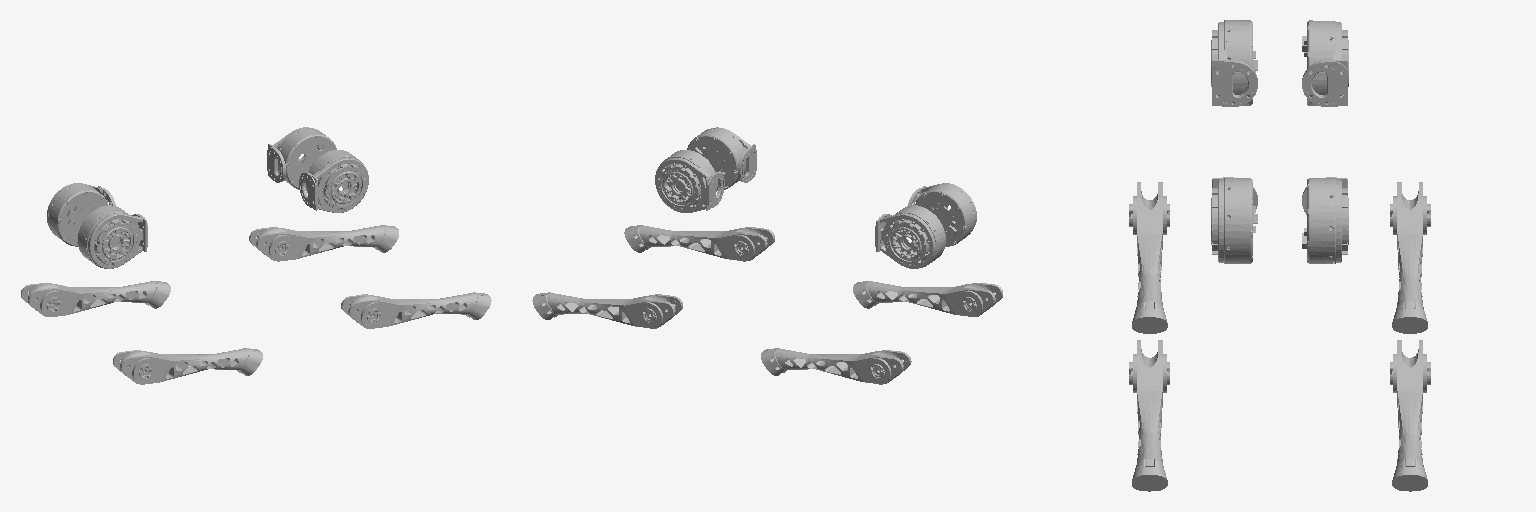
The robot description file, URDF, robot "TOE_dog":
<?xml version="1.0" encoding="utf-8"?>
<!-- This URDF was automatically created by SolidWorks to URDF Exporter! Originally created by [author] ([email redacted]) 
     Commit Version: 1.6.0-4-g7f85cfe  Build Version: 1.6.7995.38578
     For more information, please see http://wiki.ros.org/sw_urdf_exporter -->
<robot
  name="TOE_dog">
  <mujoco>
  <compiler 
    meshdir="[local-path]/my_dog/commpany/meshes/" 
    balanceinertia="true" 
    discardvisual="false" />
  </mujoco>
  <link
    name="base">
    <inertial>
      <origin
        xyz="0 0 0"
        rpy="0 0 0" />
      <mass
        value="5.1234705" />
      <inertia
        ixx="0.01752351"
        ixy="0.00013383"
        ixz="0.00001858"
        iyy="0.05791253"
        iyz="-0.00032371"
        izz="0.06565058" />
    </inertial>
    <visual>
      <origin
        xyz="0 0 0"
        rpy="0 0 0" />
      <geometry>
        <mesh
          filename="package://urdf_tutorial/meshes/TOE_base.STL" />
      </geometry>
      <material
        name="">
        <color
          rgba="0.752941176470588 0.752941176470588 0.752941176470588 1" />
      </material>
    </visual>
    <collision>
      <origin
        xyz="0 0 0"
        rpy="0 0 0" />
      <geometry>
        <box size="0.27 0.15 0.114" />
      </geometry>
    </collision>
  </link>
  <link
    name="FL_hip">
    <inertial>
      <origin
        xyz="0 0 0"
        rpy="0 0 0" />
      <mass
        value="0.66990104" />
      <inertia
        ixx="0.00054593"
        ixy="0.00000827"
        ixz="0.00000421"
        iyy="0.00085132"
        iyz="0.00000458"
        izz="0.00060958" />
    </inertial>
    <visual>
      <origin
        xyz="0 0 0"
        rpy="0 0 0" />
      <geometry>
        <mesh
          filename="package://urdf_tutorial/meshes/TOE_FL_hip.STL" />
      </geometry>
      <material
        name="">
        <color
          rgba="0.752941176470588 0.752941176470588 0.752941176470588 1" />
      </material>
    </visual>
    <collision>
      <origin
        xyz="0 0.05 0"
        rpy="1.5708 0 0" />
      <geometry>
        <cylinder length="0.08" radius="0.046" />
      </geometry>
    </collision>
  </link>
  <joint
    name="FL_hip_joint"
    type="revolute">
    <origin
      xyz="0.2 0.05 0"
      rpy="0 0 0" />
    <parent
      link="base" />
    <child
      link="FL_hip" />
    <axis
      xyz="1 0 0" />
    <limit
      lower="-1"
      upper="1"
      effort="23"
      velocity="30" />
  </joint>
  <link
    name="FL_thigh">
    <inertial>
      <origin
        xyz="0 -0.0225192600801335 -0.0253114510050126"
        rpy="0 0 0" />
      <mass
        value="1.05418577" />
      <inertia
        ixx="0.00434958"
        ixy="-0.00001840"
        ixz="-0.00002750"
        iyy="0.00404663"
        iyz="0.00080770"
        izz="0.00139077" />
    </inertial>
    <visual>
      <origin
        xyz="0 0 0"
        rpy="0 0 0" />
      <geometry>
        <mesh
          filename="package://urdf_tutorial/meshes/TOE_thigh.STL" />
      </geometry>
      <material
        name="">
        <color
          rgba="0.752941176470588 0.752941176470588 0.752941176470588 1" />
      </material>
    </visual>
    <collision>
      <origin rpy="0 1.5707963267948966 0" xyz="0 0 -0.11" />
      <geometry>
        <box size="0.11 0.0245 0.04" />
      </geometry>
    </collision>
  </link>
  <joint
    name="FL_thigh_joint"
    type="revolute">
    <origin
      xyz="0 0.08953 0"
      rpy="0 0 0" />
    <parent
      link="FL_hip" />
    <child
      link="FL_thigh" />
    <axis
      xyz="0 1 0" />
    <limit
      lower="-1.5"
      upper="2.5"
      effort="23"
      velocity="30" />
  </joint>
  <link
    name="FL_calf">
    <inertial>
      <origin
        xyz="0 0 -0.0632711754855739"
        rpy="0 0 0" />
      <mass
        value="0.18000000" />
      <inertia
        ixx="0.00091534"
        ixy="0.00000317"
        ixz="-0.00008945"
        iyy="0.00092537"
        iyz="0.00003646"
        izz="0.00004689" />
    </inertial>
    <visual>
      <origin
        xyz="0 0 0"
        rpy="0 0 0" />
      <geometry>
        <mesh
          filename="package://urdf_tutorial/meshes/TOE_calf.STL" />
      </geometry>
      <material
        name="">
        <color
          rgba="0.752941176470588 0.752941176470588 0.752941176470588 1" />
      </material>
    </visual>
    <collision>
      <origin rpy="0 1.5708 0" xyz="0 0 -0.09" />
      <geometry>
        <box size="0.16 0.0245 0.04" />
      </geometry>
    </collision>
  </link>
  <joint
    name="FL_calf_joint"
    type="revolute">
    <origin
      xyz="0 0 -0.18"
      rpy="0 0 0" />
    <parent
      link="FL_thigh" />
    <child
      link="FL_calf" />
    <axis
      xyz="0 1 0" />
    <limit
      lower="-2.6"
      upper="-0.15"
      effort="35"
      velocity="20" />
  </joint>
  <link
    name="FL_foot">
    <inertial>
      <origin
        xyz="0 0 -0.00961668940835148"
        rpy="0 0 0" />
      <mass
        value="0.04" />
      <inertia
        ixx="9.6e-06"
        ixy="0"
        ixz="0"
        iyy="9.6e-06"
        iyz="0"
        izz="9.6e-06" />
    </inertial>
    <visual>
      <origin
        xyz="0 0 0"
        rpy="0 0 0" />
      <geometry>
        <mesh
          filename="package://urdf_tutorial/meshes/TOE_foot.STL" />
      </geometry>
      <material
        name="">
        <color
          rgba="1 1 1 1" />
      </material>
    </visual>
    <collision>
      <origin rpy="0 0 0" xyz="-0.002 0 0" />
      <geometry>
        <sphere radius="0.022" />
      </geometry>
    </collision>
  </link>
  <joint
    name="FL_foot_joint"
    type="fixed" dont_collapse="true">
    <origin
      xyz="0 0 -0.20051"
      rpy="0 -0.0012583 0" />
    <parent
      link="FL_calf" />
    <child
      link="FL_foot" />
    <axis
      xyz="0 0 0" />
  </joint>
  <link
    name="FR_hip">
    <inertial>
      <origin
        xyz="0 0 0"
        rpy="0 0 0" />
      <mass
        value="0.66990104" />
      <inertia
        ixx="0.00054593"
        ixy="-0.00000827"
        ixz="-0.00000421"
        iyy="0.00085132"
        iyz="0.00000458"
        izz="0.00060958" />
    </inertial>
    <visual>
      <origin
        xyz="0 0 0"
        rpy="0 0 0" />
      <geometry>
        <mesh
          filename="package://urdf_tutorial/meshes/TOE_FR_hip.STL" />
      </geometry>
      <material
        name="">
        <color
          rgba="0.752941176470588 0.752941176470588 0.752941176470588 1" />
      </material>
    </visual>
    <collision>
      <origin rpy="1.5707963267948966 0 0" xyz="0 -0.05 0" />
      <geometry>
        <cylinder length="0.08" radius="0.046" />
      </geometry>
    </collision>
  </link>
  <joint
    name="FR_hip_joint"
    type="revolute">
    <origin
      xyz="0.2 -0.05 0"
      rpy="0 0 0" />
    <parent
      link="base" />
    <child
      link="FR_hip" />
    <axis
      xyz="1 0 0" />
    <limit
      lower="-1"
      upper="1"
      effort="23"
      velocity="30" />
  </joint>
  <link
    name="FR_thigh">
    <inertial>
      <origin
        xyz="0 0.022389 -0.026316"
        rpy="0 0 0" />
      <mass
        value="1.05822138" />
      <inertia
        ixx="0.00434958"
        ixy="-0.00001840"
        ixz="-0.00002750"
        iyy="0.00404663"
        iyz="-0.00080770"
        izz="0.00139077" />
    </inertial>
    <visual>
      <origin
        xyz="0 0 0"
        rpy="0 0 0" />
      <geometry>
        <mesh
          filename="package://urdf_tutorial/meshes/TOE_R_thigh.STL" />
      </geometry>
      <material
        name="">
        <color
          rgba="0.75294 0.75294 0.75294 1" />
      </material>
    </visual>
    <collision>
      <origin rpy="0 1.5707963267948966 0" xyz="0 0 -0.11" />
      <geometry>
        <box size="0.11 0.0245 0.04" />
      </geometry>
    </collision>
  </link>
  <joint
    name="FR_thigh_joint"
    type="revolute">
    <origin
      xyz="0 -0.08953 0"
      rpy="0 0 0" />
    <parent
      link="FR_hip" />
    <child
      link="FR_thigh" />
    <axis
      xyz="0 1 0" />
    <limit
      lower="-1.5"
      upper="2.5"
      effort="23"
      velocity="30" />
  </joint>
  <link
    name="FR_calf">
    <inertial>
      <origin
        xyz="0 0 -0.0632711777197613"
        rpy="0 0 0" />
      <mass
        value="0.18000000" />
      <inertia
        ixx="0.00153191"
        ixy="0.00000186"
        ixz="-0.00004501"
        iyy="0.00153344"
        iyz="0.00006192"
        izz="0.00004013" />
    </inertial>
    <visual>
      <origin
        xyz="0 0 0"
        rpy="0 0 0" />
      <geometry>
        <mesh
          filename="package://urdf_tutorial/meshes/TOE_calf.STL" />
      </geometry>
      <material
        name="">
        <color
          rgba="0.752941176470588 0.752941176470588 0.752941176470588 1" />
      </material>
    </visual>
    <collision>
      <origin rpy="0 1.5708 0" xyz="0 0 -0.09" />
      <geometry>
        <box size="0.16 0.0245 0.04" />
      </geometry>
    </collision>
  </link>
  <joint
    name="FR_calf_joint"
    type="revolute">
    <origin
      xyz="0 0 -0.18"
      rpy="0 0 0" />
    <parent
      link="FR_thigh" />
    <child
      link="FR_calf" />
    <axis
      xyz="0 1 0" />
    <limit
      lower="-2.6"
      upper="-0.15"
      effort="35"
      velocity="20" />
  </joint>
  <link
    name="FR_foot">
    <inertial>
      <origin
        xyz="0 0 -0.0096167"
        rpy="0 0 0" />
      <mass
        value="0.04" />
      <inertia
        ixx="9.6e-06"
        ixy="0"
        ixz="0"
        iyy="9.6e-06"
        iyz="0"
        izz="9.6e-06" />
    </inertial>
    <visual>
      <origin
        xyz="0 0 0"
        rpy="0 0 0" />
      <geometry>
        <mesh
          filename="package://urdf_tutorial/meshes/TOE_foot.STL" />
      </geometry>
      <material
        name="">
        <color
          rgba="1 1 1 1" />
      </material>
    </visual>
    <collision>
      <origin rpy="0 0 0" xyz="-0.002 0 0" />
      <geometry>
        <sphere radius="0.022" />
      </geometry>
    </collision>
  </link>
  <joint
    name="FR_foot_joint"
    type="fixed" dont_collapse="true">
    <origin
      xyz="0 0 -0.20051"
      rpy="0 -0.0012583 0" />
    <parent
      link="FR_calf" />
    <child
      link="FR_foot" />
    <axis
      xyz="0 0 0" />
  </joint>
    <link
    name="RL_hip">
    <inertial>
      <origin
        xyz="0 0 0"
        rpy="0 0 0" />
      <mass
        value="0.66990104" />
      <inertia
        ixx="0.00054593"
        ixy="-0.00000859"
        ixz="0.00000350"
        iyy="0.00085039"
        iyz="0.00001569"
        izz="0.00061051" />
    </inertial>
    <visual>
      <origin
        xyz="0 0 0"
        rpy="0 0 0" />
      <geometry>
        <mesh
          filename="package://urdf_tutorial/meshes/TOE_RL_hip.STL" />
      </geometry>
      <material
        name="">
        <color
          rgba="0.752941176470588 0.752941176470588 0.752941176470588 1" />
      </material>
    </visual>
    <collision>
      <origin rpy="1.5707963267948966 0 0" xyz="0 0.05 0" />
      <geometry>
        <cylinder length="0.08" radius="0.046" />
      </geometry>
    </collision>
  </link>
  <joint
    name="RL_hip_joint"
    type="revolute">
    <origin
      xyz="-0.2 0.05 0"
      rpy="0 0 0" />
    <parent
      link="base" />
    <child
      link="RL_hip" />
    <axis
      xyz="1 0 0" />
    <limit
      lower="-1"
      upper="1"
      effort="23"
      velocity="30" />
  </joint>
  <link
    name="RL_thigh">
    <inertial>
      <origin
        xyz="0 -0.0225192600682941 -0.0253114510097742"
        rpy="0 0 0" />
      <mass
        value="1.05418577" />
      <inertia
        ixx="0.00434731"
        ixy="0.00002748"
        ixz="-0.00013288"
        iyy="0.00405071"
        iyz="0.00080271"
        izz="0.00139629" />
    </inertial>
    <visual>
      <origin
        xyz="0 0 0"
        rpy="0 0 0" />
      <geometry>
        <mesh
          filename="package://urdf_tutorial/meshes/TOE_thigh.STL" />
      </geometry>
      <material
        name="">
        <color
          rgba="0.752941176470588 0.752941176470588 0.752941176470588 1" />
      </material>
    </visual>
    <collision>
      <origin rpy="0 1.5707963267948966 0" xyz="0 0 -0.11" />
      <geometry>
        <box size="0.11 0.0245 0.04" />
      </geometry>
    </collision>
  </link>
  <joint
    name="RL_thigh_joint"
    type="revolute">
    <origin
      xyz="0 0.08953 0"
      rpy="0 0 0" />
    <parent
      link="RL_hip" />
    <child
      link="RL_thigh" />
    <axis
      xyz="0 1 0" />
    <limit
      lower="-1.5"
      upper="2.5"
      effort="23"
      velocity="30" />
  </joint>
  <link
    name="RL_calf">
    <inertial>
      <origin
        xyz="0 -0 -0.0632711864020849"
        rpy="0 0 0" />
      <mass
        value="0.18000000" />
      <inertia
        ixx="0.00153252"
        ixy="-0.00000138"
        ixz="0.00003331"
        iyy="0.00153252"
        iyz="0.00006195"
        izz="0.00003952" />
    </inertial>
    <visual>
      <origin
        xyz="0 0 0"
        rpy="0 0 0" />
      <geometry>
        <mesh
          filename="package://urdf_tutorial/meshes/TOE_calf.STL" />
      </geometry>
      <material
        name="">
        <color
          rgba="0.752941176470588 0.752941176470588 0.752941176470588 1" />
      </material>
    </visual>
    <collision>
      <origin rpy="0 1.5708 0" xyz="0 0 -0.09" />
      <geometry>
        <box size="0.16 0.0245 0.04" />
      </geometry>
    </collision>
  </link>
  <joint
    name="RL_calf_joint"
    type="revolute">
    <origin
      xyz="0 0 -0.18"
      rpy="0 0 0" />
    <parent
      link="RL_thigh" />
    <child
      link="RL_calf" />
    <axis
      xyz="0 1 0" />
    <limit
      lower="-2.6"
      upper="-0.15"
      effort="35"
      velocity="20" />
  </joint>
  <link
    name="RL_foot">
    <inertial>
      <origin
        xyz="0 0 -0.00961668940835148"
        rpy="0 0 0" />
      <mass
        value="0.04" />
      <inertia
        ixx="9.6e-06"
        ixy="0"
        ixz="0"
        iyy="9.6e-06"
        iyz="0"
        izz="9.6e-06" />
    </inertial>
    <visual>
      <origin
        xyz="0 0 0"
        rpy="0 0 0" />
      <geometry>
        <mesh
          filename="package://urdf_tutorial/meshes/TOE_foot.STL" />
      </geometry>
      <material
        name="">
        <color
          rgba="1 1 1 1" />
      </material>
    </visual>
    <collision>
      <origin rpy="0 0 0" xyz="-0.002 0 0" />
      <geometry>
        <sphere radius="0.022" />
      </geometry>
    </collision>
  </link>
  <joint
    name="RL_foot_joint"
    type="fixed" dont_collapse="true">
    <origin
      xyz="0 0 -0.20051"
      rpy="0 -0.0012583 0" />
    <parent
      link="RL_calf" />
    <child
      link="RL_foot" />
    <axis
      xyz="0 0 0" />
  </joint>
  <link
    name="RR_hip">
    <inertial>
      <origin
        xyz="0 0 0"
        rpy="0 0 0" />
      <mass
        value="0.66990104" />
      <inertia
        ixx="0.00054593"
        ixy="0.00000859"
        ixz="-0.00000350"
        iyy="0.00085039"
        iyz="0.00001569"
        izz="0.00061051" />
    </inertial>
    <visual>
      <origin
        xyz="0 0 0"
        rpy="0 0 0" />
      <geometry>
        <mesh
          filename="package://urdf_tutorial/meshes/TOE_RR_hip.STL" />
      </geometry>
      <material
        name="">
        <color
          rgba="0.752941176470588 0.752941176470588 0.752941176470588 1" />
      </material>
    </visual>
    <collision>
      <origin rpy="1.5707963267948966 0 0" xyz="0 -0.05 0" />
      <geometry>
        <cylinder length="0.08" radius="0.046" />
      </geometry>
    </collision>
  </link>
  <joint
    name="RR_hip_joint"
    type="revolute">
    <origin
      xyz="-0.2 -0.05 0"
      rpy="0 0 0" />
    <parent
      link="base" />
    <child
      link="RR_hip" />
    <axis
      xyz="1 0 0" />
    <limit
      lower="-1"
      upper="1"
      effort="23"
      velocity="30" />
  </joint>
  <link
    name="RR_thigh">
    <inertial>
      <origin
        xyz="0 0.0223886518464307 -0.026316165403537"
        rpy="0 0 0" />
      <mass
        value="1.05822138" />
      <inertia
        ixx="0.00441919"
        ixy="0.00001398"
        ixz="-0.00005603"
        iyy="0.00423585"
        iyz="-0.00059276"
        izz="0.00128243" />
    </inertial>
    <visual>
      <origin
        xyz="0 0 0"
        rpy="0 0 0" />
      <geometry>
        <mesh
          filename="package://urdf_tutorial/meshes/TOE_R_thigh.STL" />
      </geometry>
      <material
        name="">
        <color
          rgba="0.752941176470588 0.752941176470588 0.752941176470588 1" />
      </material>
    </visual>
    <collision>
      <origin rpy="0 1.5707963267948966 0" xyz="0 0 -0.11" />
      <geometry>
        <box size="0.11 0.0245 0.04" />
      </geometry>
    </collision>
  </link>
  <joint
    name="RR_thigh_joint"
    type="revolute">
    <origin
      xyz="0 -0.08953 0"
      rpy="0 0 0" />
    <parent
      link="RR_hip" />
    <child
      link="RR_thigh" />
    <axis
      xyz="0 1 0" />
    <limit
      lower="-1.5"
      upper="2.5"
      effort="23"
      velocity="30" />
  </joint>
  <link
    name="RR_calf">
    <inertial>
      <origin
        xyz="0 0 -0.0632711656523452"
        rpy="0 0 0" />
      <mass
        value="0.18000000" />
      <inertia
        ixx="0.00153244"
        ixy="-0.00000145"
        ixz="0.00003519"
        iyy="0.00153344"
        iyz="0.00006194"
        izz="0.00003961" />
    </inertial>
    <visual>
      <origin
        xyz="0 0 0"
        rpy="0 0 0" />
      <geometry>
        <mesh
          filename="package://urdf_tutorial/meshes/TOE_calf.STL" />
      </geometry>
      <material
        name="">
        <color
          rgba="0.752941176470588 0.752941176470588 0.752941176470588 1" />
      </material>
    </visual>
    <collision>
      <origin rpy="0 1.5708 0" xyz="0 0 -0.09" />
      <geometry>
        <box size="0.16 0.0245 0.04" />
      </geometry>
    </collision>
  </link>
  <joint
    name="RR_calf_joint"
    type="revolute">
    <origin
      xyz="0 0 -0.18"
      rpy="0 0 0" />
    <parent
      link="RR_thigh" />
    <child
      link="RR_calf" />
    <axis
      xyz="0 1 0" />
    <limit
      lower="-2.6"
      upper="-0.15"
      effort="35"
      velocity="20" />
  </joint>
  <link
    name="RR_foot">
    <inertial>
      <origin
        xyz="0 0 -0.00961668941940308"
        rpy="0 0 0" />
      <mass
        value="0.04" />
      <inertia
        ixx="9.6e-06"
        ixy="0"
        ixz="0"
        iyy="9.6e-06"
        iyz="0"
        izz="9.6e-06" />
    </inertial>
    <visual>
      <origin
        xyz="0 0 0"
        rpy="0 0 0" />
      <geometry>
        <mesh
          filename="package://urdf_tutorial/meshes/TOE_foot.STL" />
      </geometry>
      <material
        name="">
        <color
          rgba="1 1 1 1" />
      </material>
    </visual>
    <collision>
      <origin rpy="0 0 0" xyz="-0.002 0 0" />
      <geometry>
        <sphere radius="0.022" />
      </geometry>
    </collision>
  </link>
  <joint
    name="RR_foot_joint"
    type="fixed" dont_collapse="true">
    <origin
      xyz="0 0 -0.20051"
      rpy="0 -0.0012583 0" />
    <parent
      link="RR_calf" />
    <child
      link="RR_foot" />
  </joint>
  <link
    name="imu">
    <inertial>
      <origin
        xyz="0 0 0"
        rpy="0 0 0" />
      <mass
        value="0" />
      <inertia
        ixx="0"
        ixy="0"
        ixz="0"
        iyy="0"
        iyz="0"
        izz="0" />
    </inertial>
  </link>
  <joint
    name="imu_joint"
    type="fixed">
    <origin
      xyz="0 0 0.05764"
      rpy="0 0 0" />
    <parent
      link="base" />
    <child
      link="imu" />
    <axis
      xyz="0 0 0" />
  </joint>
</robot>

--- Render facts (derived) ---
The picture shows the robot from 3 angles, left to right: view 1: azimuth 30°, elevation 25°; view 2: azimuth 150°, elevation 25°; view 3: azimuth 270°, elevation 25°; orthographic projection.
Model TOE_dog with 18 links and 17 joints (12 revolute, 5 fixed), rooted at base, posed joints at zero except 4 at the middle of their limits (FL_calf_joint = -1.38, FR_calf_joint = -1.38, RL_calf_joint = -1.38, RR_calf_joint = -1.38).
Links seen in each view (by area): view 1: RR_calf, FL_calf, RR_hip, RL_calf, FR_calf, FR_hip, FL_hip, RL_hip; view 2: RL_calf, FR_calf, RR_calf, RL_hip, FL_calf, FL_hip, FR_hip, RR_hip; view 3: RL_calf, RR_calf, FL_calf, FR_calf, FL_hip, RR_hip, FR_hip, RL_hip.
Boxes of the visible links, x1,y1,x2,y2 form: RR_calf: [113, 348, 262, 384]; FL_calf: [249, 225, 398, 261]; RR_hip: [77, 205, 147, 268]; RL_calf: [21, 281, 170, 316]; FR_calf: [341, 292, 491, 328]; FR_hip: [299, 150, 368, 212]; FL_hip: [267, 127, 336, 190]; RL_hip: [47, 183, 115, 246]; RL_calf: [761, 348, 911, 384]; FR_calf: [624, 225, 774, 261]; RR_calf: [853, 281, 1002, 316]; RL_hip: [875, 205, 945, 268]; FL_calf: [532, 292, 682, 328]; FL_hip: [655, 150, 724, 212]; FR_hip: [687, 127, 756, 190]; RR_hip: [908, 183, 976, 246]; RL_calf: [1390, 182, 1430, 333]; RR_calf: [1129, 182, 1169, 333]; FL_calf: [1390, 340, 1430, 491]; FR_calf: [1129, 340, 1169, 491]; FL_hip: [1302, 177, 1348, 263]; RR_hip: [1211, 20, 1257, 106]; FR_hip: [1211, 177, 1257, 263]; RL_hip: [1302, 20, 1348, 106].
Bounding box of the posed robot: 0.6572 × 0.3227 × 0.2807 m (x, y, z).
Meshes: 9 distinct files referenced, 8 mesh visuals loaded (5 binary STL); not drawn: 9 (reference not matched to a file when rendering).